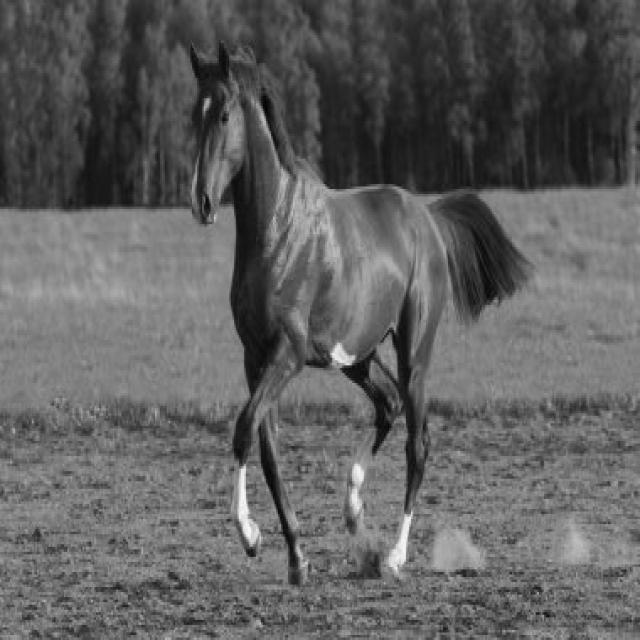Animal: (190, 43, 532, 583)
